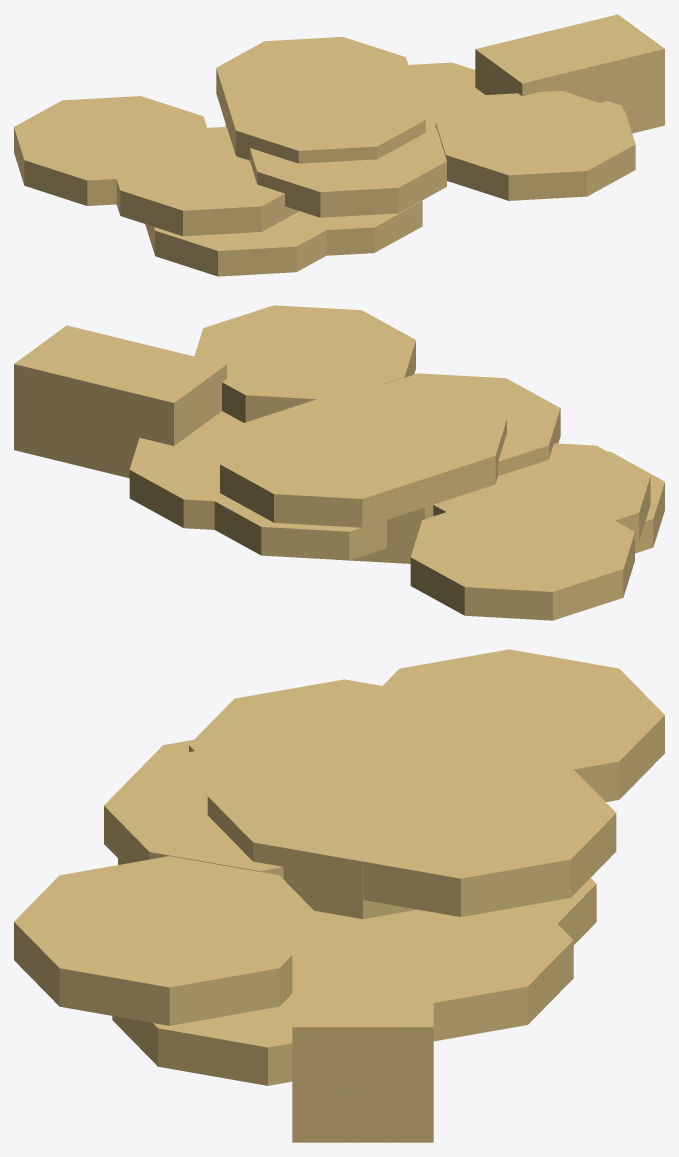
File: dungeon-room-builder-treasure-pile-79022b03__25836.glb
The picture shows the model from 3 angles, top to bottom: view 1: azimuth 30°, elevation 25°; view 2: azimuth 150°, elevation 25°; view 3: azimuth 270°, elevation 25°; orthographic projection. The views are drawn at different scales.
Visible parts, largest first — view 1: treasure-pile; view 2: treasure-pile; view 3: treasure-pile.
Boxes of the visible parts, x1,y1,x2,y2 form: treasure-pile: (14,14,664,276); treasure-pile: (14,305,664,620); treasure-pile: (14,649,664,1142).
Bounding box in the file's own units: 1.39 × 0.1799 × 0.9211.
